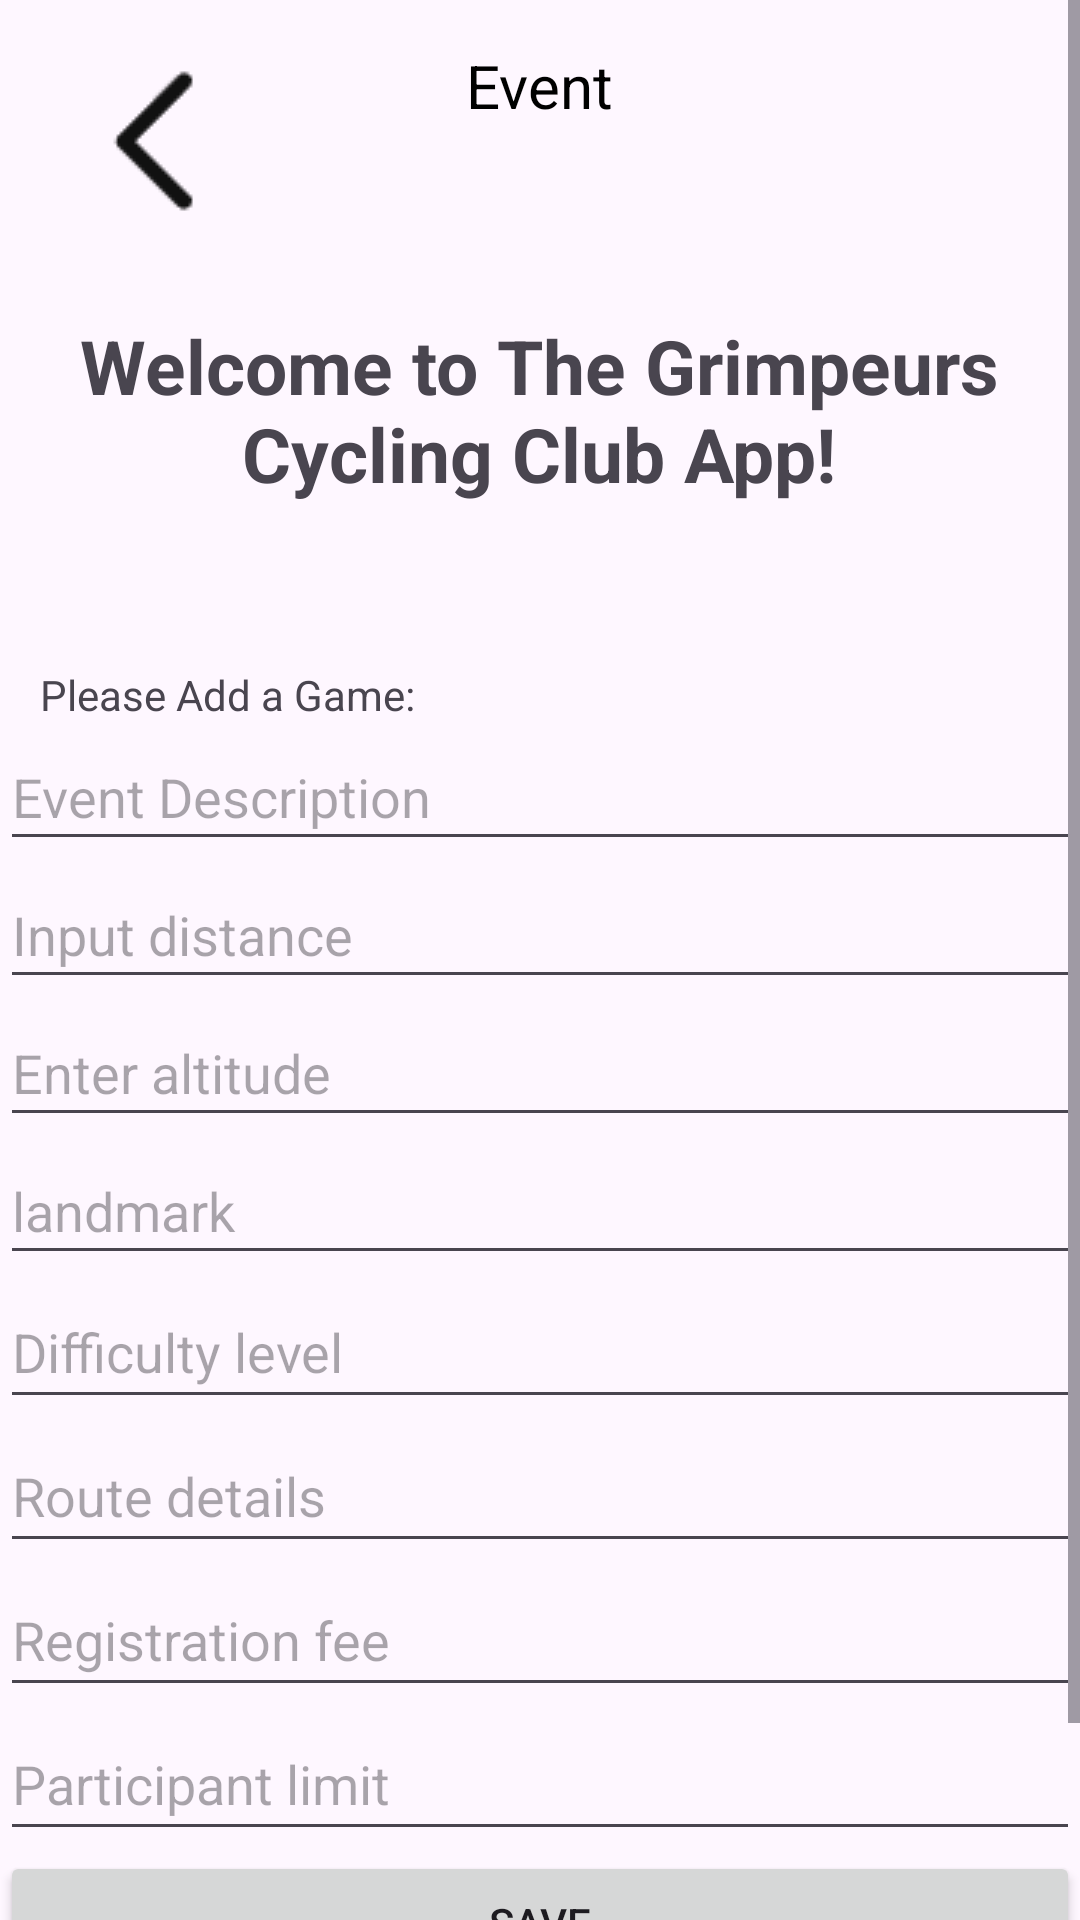

Icons on this 1080×1920 Android screen, each with the point to tap as (x=x, y=y):
back: (x=153, y=141)
